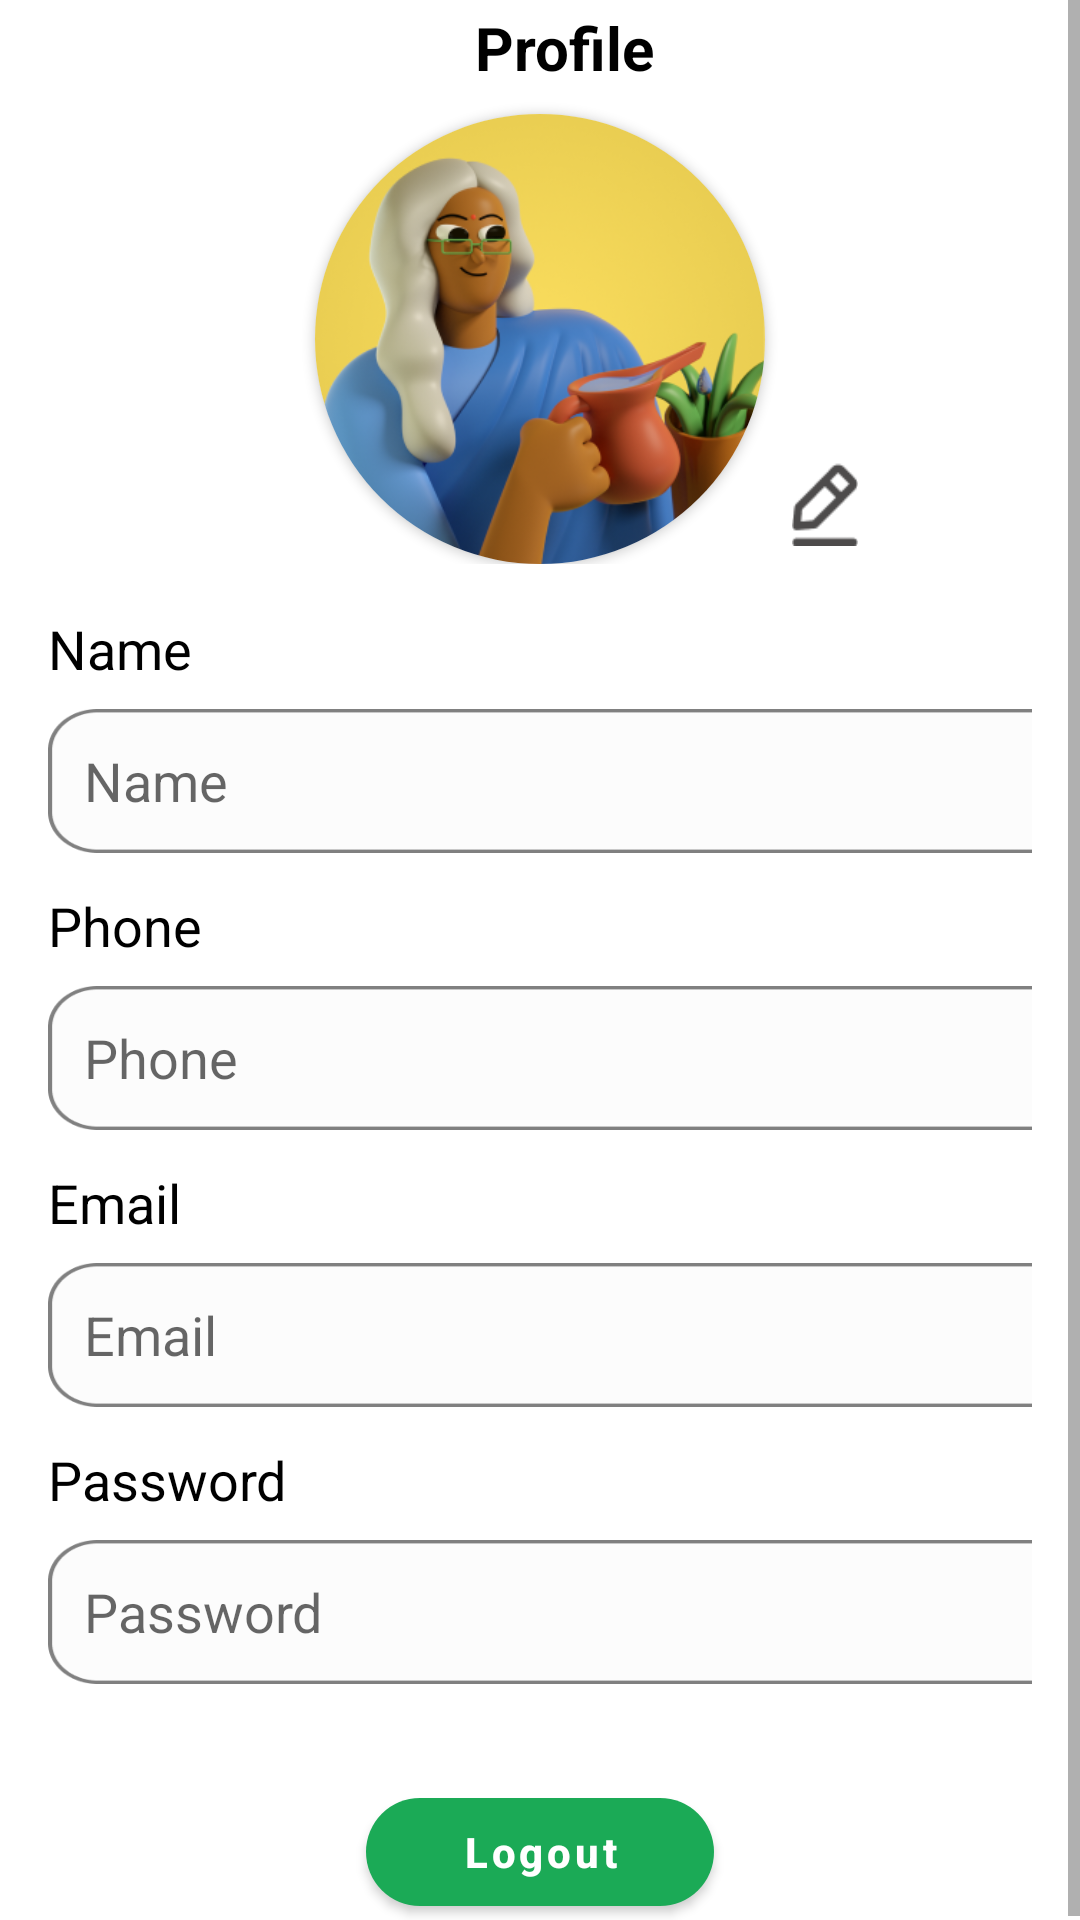

Named icons in this screenshot (1080 × 1920) and their centers, (x,y):
edit: (825,505)
